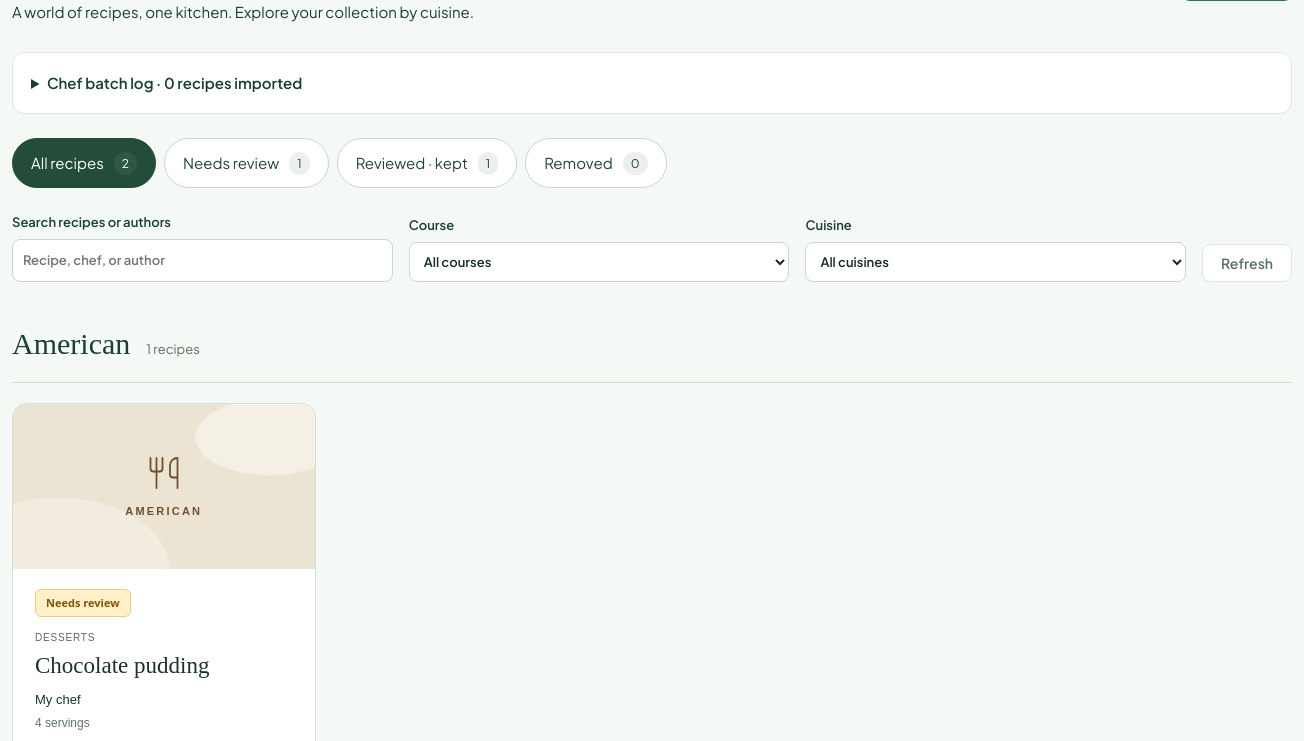
it: groups cuisines by default and shows review status on cards
Click the button "Reviewed · kept 1": point(427, 163) top-left (337, 138), bottom-right (517, 188)
(page scrolled)
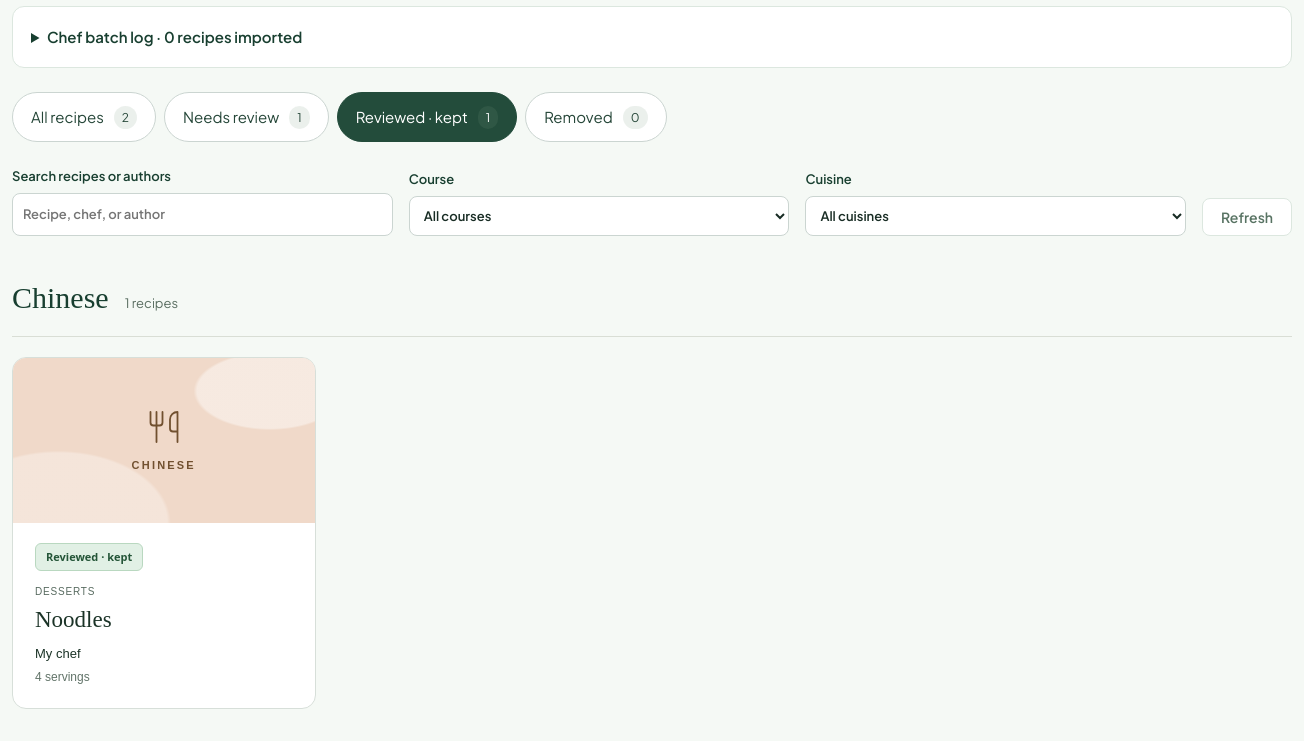
Expected: the button "Chinese Reviewed · kept Desserts Noodles My chef 4 servings" is shown, top-left (12, 357), bottom-right (316, 709)
Expected: the button "Chocolate pudding" is gone
